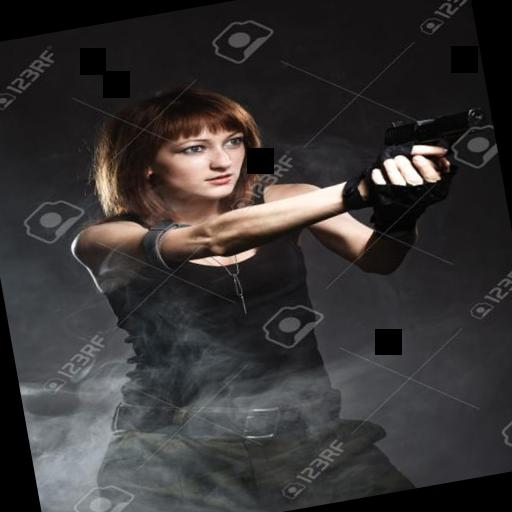Handgun: (324, 98, 496, 201)
